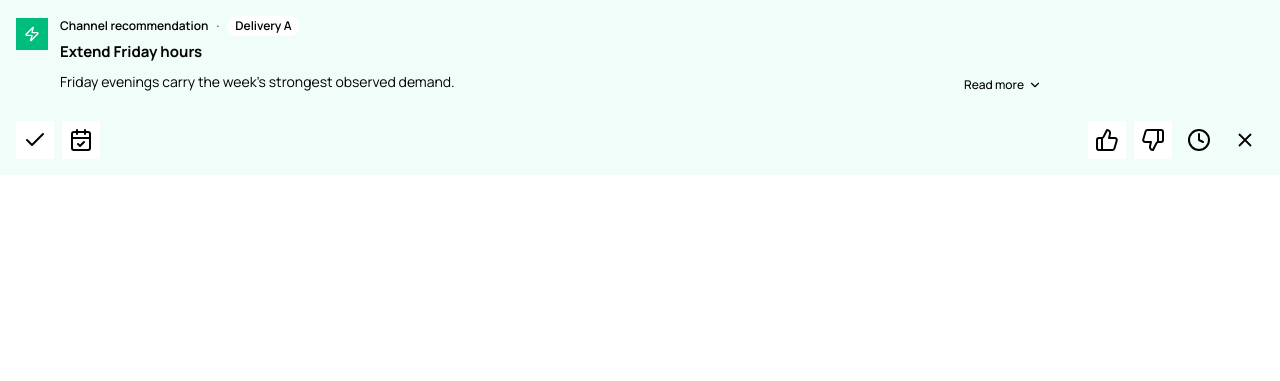
Test: IntelligenceCard › matches the prototype card: tag plus scope, evidence plus Why this, no badge grid
expect the text "Channel recommendation" is shown: met, box left=60, top=18, right=208, bottom=34
expect the text "Delivery A" is shown: met, box left=227, top=16, right=300, bottom=36
Note: Limitation, evidence, and Why this wait inside the expander.
What coordinates should you click on to do the following:
click the button "Read more"
I would click on:
 (1003, 85)
Its box is left=964, top=77, right=1042, bottom=93.
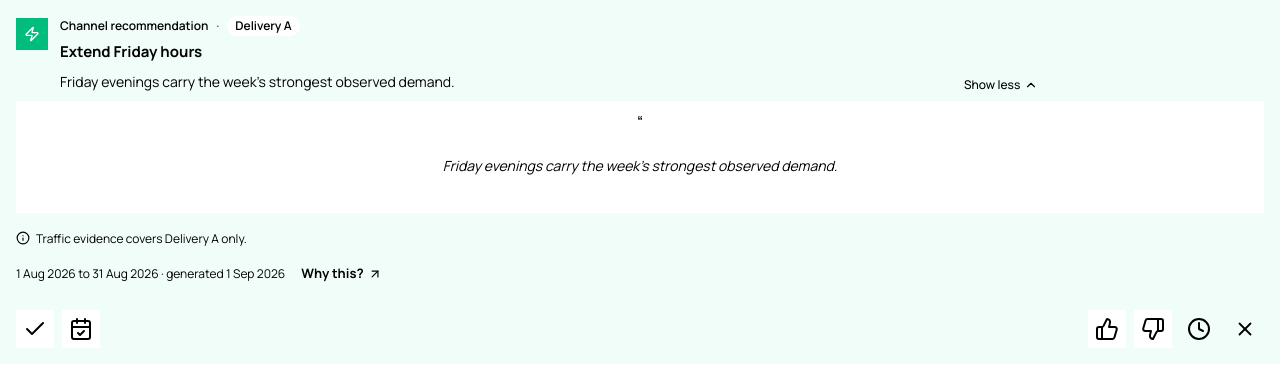
expect the text "Traffic evidence covers Delivery A only." is shown: met, box left=36, top=229, right=247, bottom=249
expect the button "Why this?" is shown: met, box left=301, top=265, right=382, bottom=282
expect the text "1 Aug 2026 to 31 Aug 2026 · generated 1 Sep 2026" is shown: met, box left=16, top=266, right=285, bottom=282
